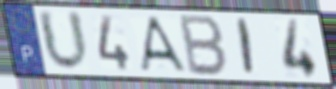4: (281, 17, 320, 81), (96, 12, 133, 72)
A: (138, 15, 190, 75)
B: (178, 12, 229, 79)
I: (237, 17, 256, 78)
U: (35, 8, 92, 74)
